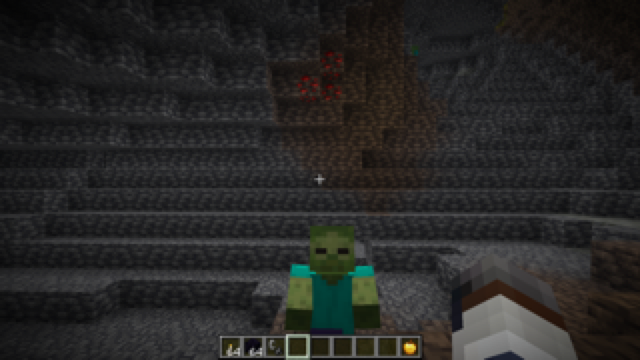redstone: (296, 49, 347, 108)
